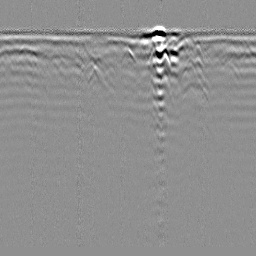cavity: (119, 45, 137, 62)
